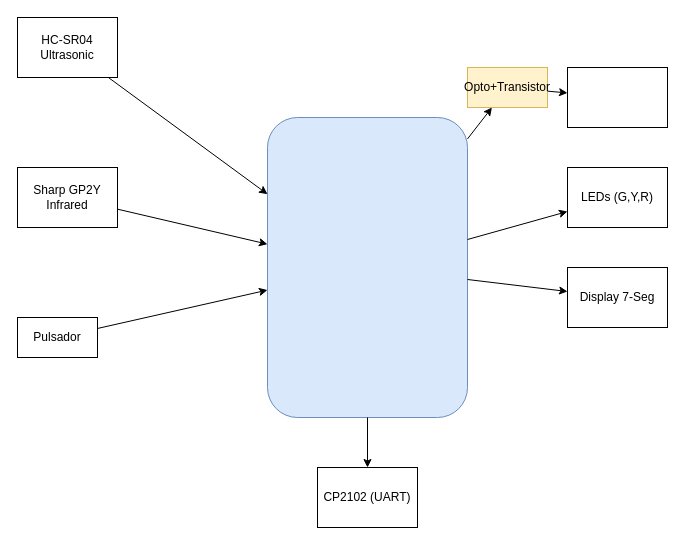
This 685x545 diagram has some shape labels left out. Here are the shapes that lost their labels. From the top down, the centre of each, then its label:
At pixel 617 97: "Buzzer Passive".
At pixel 367 267: "LPC1769 Microcontroller".
